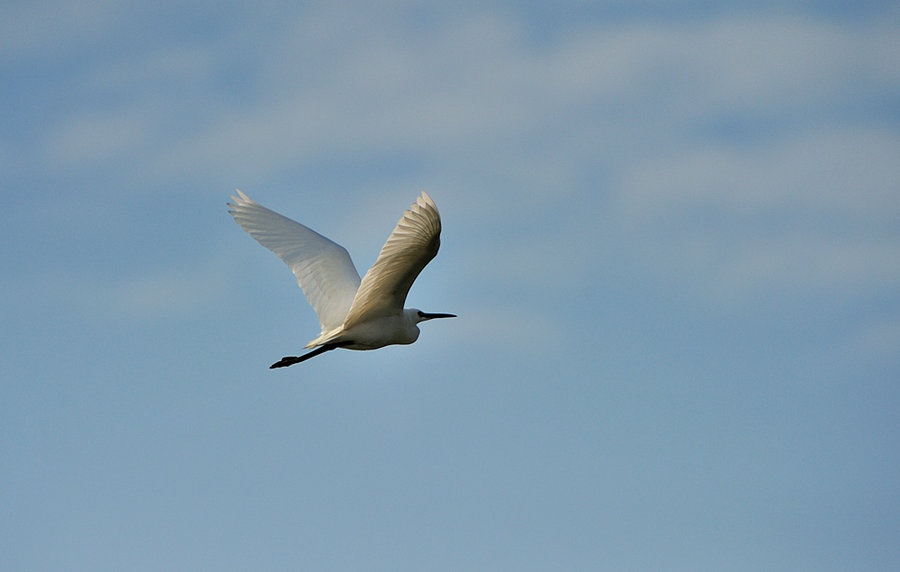bird: (231, 186, 461, 368)
